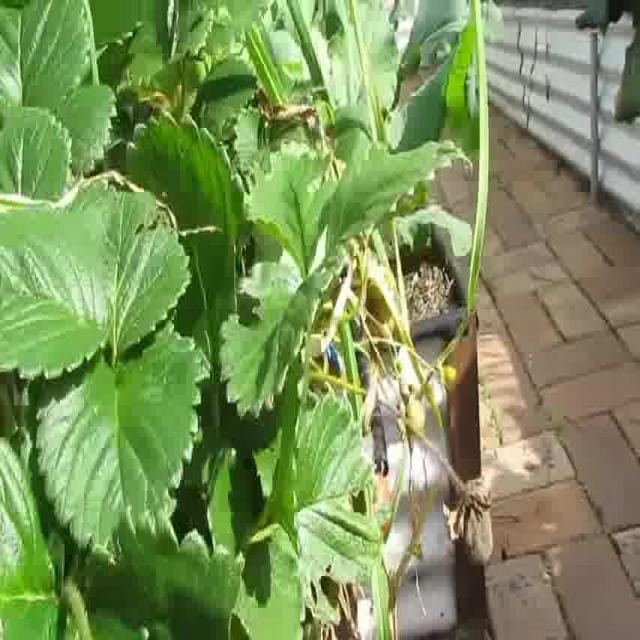Fruta sana: (362, 470, 399, 537), (407, 395, 427, 438), (428, 380, 444, 406), (444, 367, 462, 383)
Moho gris: (442, 478, 498, 568)
